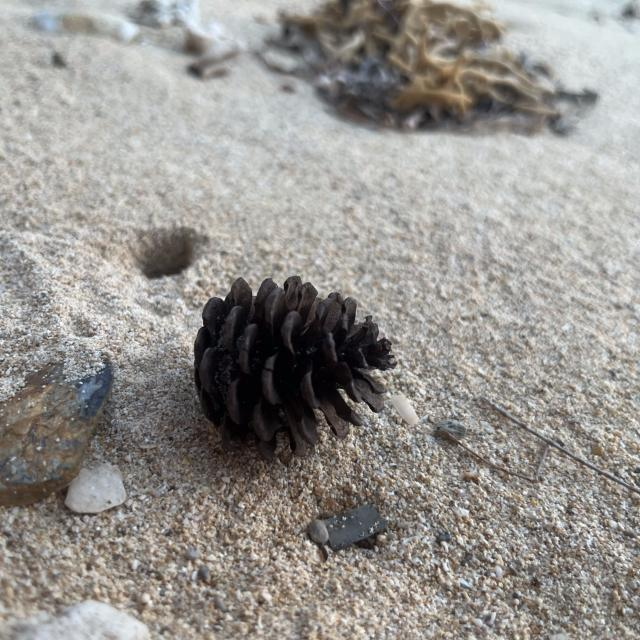pinecone: (192, 275, 401, 468)
